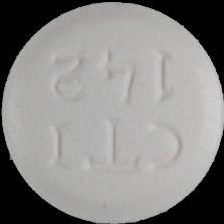61442-142: (0, 0, 224, 224)
